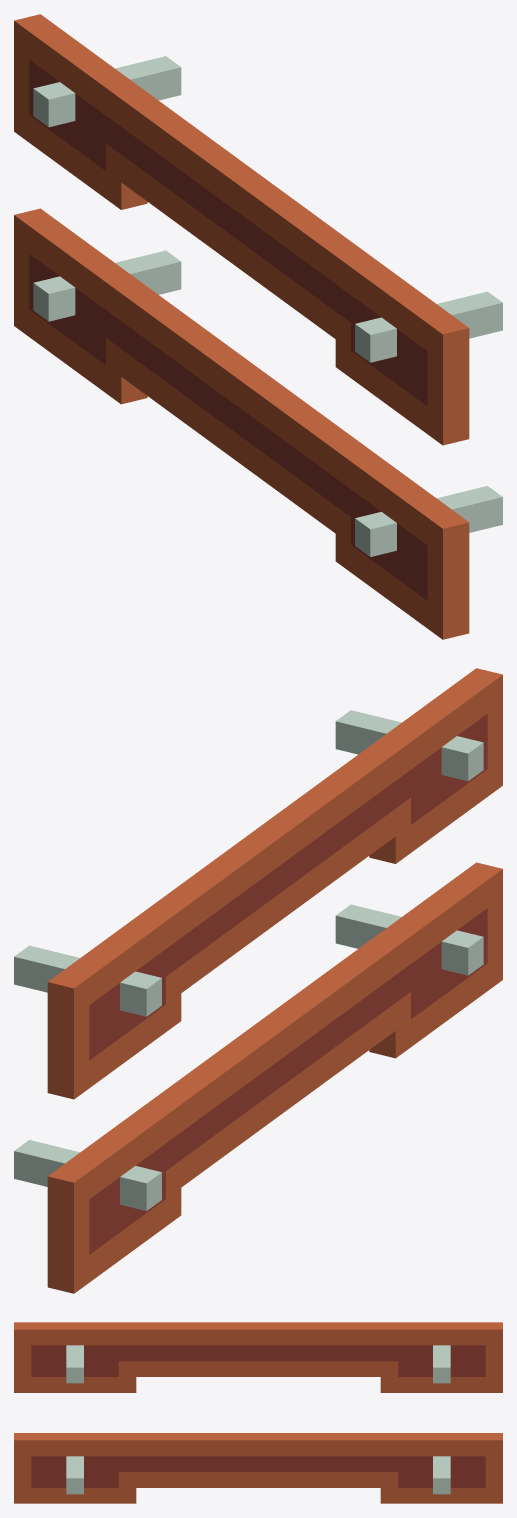
File: Smol-NewFence-1.obj
The picture shows the model from 3 angles, top to bottom: view 1: azimuth 30°, elevation 25°; view 2: azimuth 150°, elevation 25°; view 3: azimuth 270°, elevation 25°; orthographic projection. The views are drawn at different scales.
Size of the model in its own units: 0.5 by 1.1 by 2.8.
Materials: 1 (1 with a texture image).
